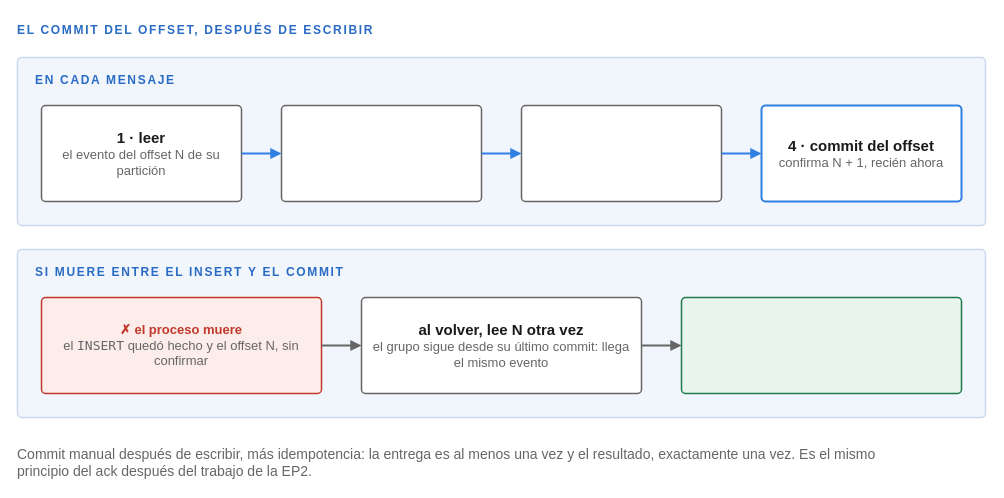
Image size: 1004x498. Some labels were removed from this diagram. Here are the shapes that lost their labels. From the top down, the centre of each, then its label:
the point at 381,153: 2 · validar JSON y DTO; si falla, se registra y pasa al 4
the point at 621,153: 3 · escribir INSERT con evento_id como clave: un duplicado no suma
the point at 821,345: ✓ ya procesado, no suma el INSERT choca con la clave; commit de N + 1 y sigue
